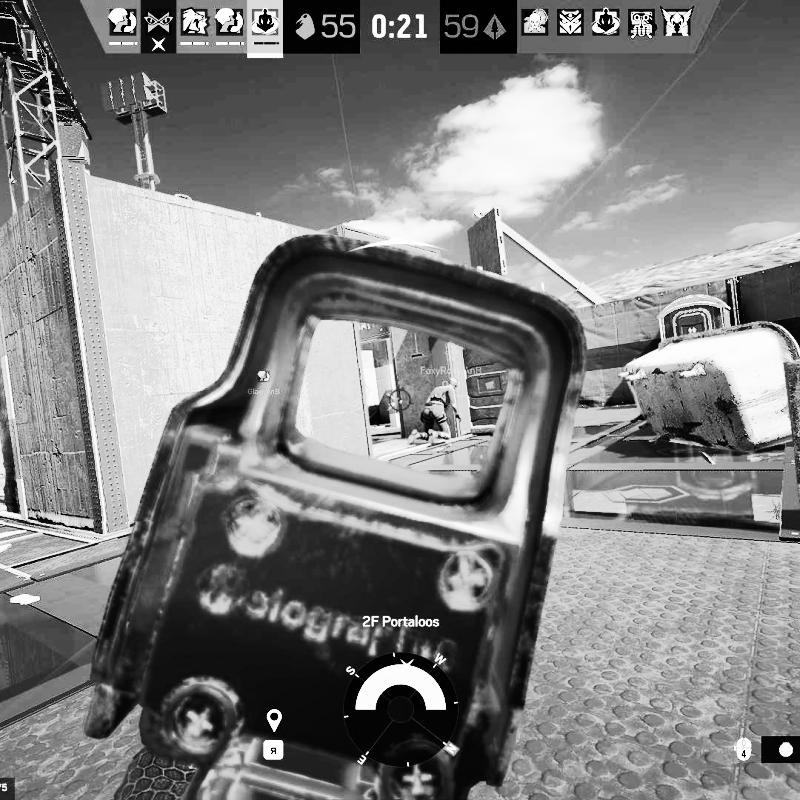Character: (406, 376, 463, 448)
Friend_label: (246, 369, 282, 396)
Head: (448, 378, 460, 390)
